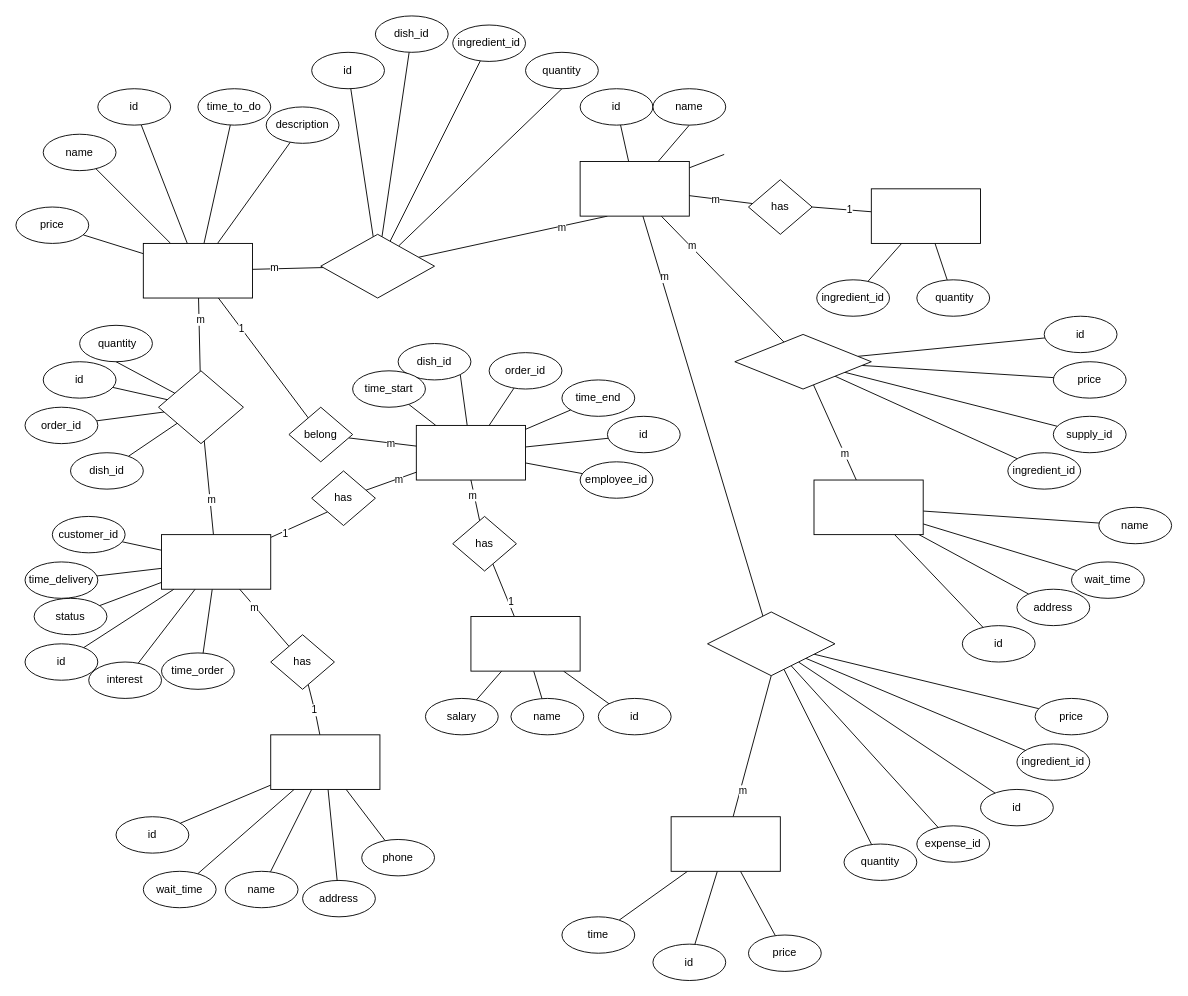
The diagram is 1188 pixels wide and 996 high, and some of its shapes have lost their labels. Here are the shapes that lost their labels. From the top down, the box of each, then its label:
(579, 161, 689, 216): Ingredient
(870, 188, 981, 243): Inventory
(142, 243, 253, 298): Dish
(320, 233, 435, 298): Dish_Ingredient
(734, 334, 871, 389): supply_ingredient
(158, 370, 243, 444): Order_dish
(415, 425, 526, 480): Work
(813, 479, 923, 535): Supply
(161, 534, 271, 589): Order
(470, 616, 580, 671): Employee
(707, 611, 835, 676): expense_list
(270, 734, 380, 789): Customer
(670, 816, 780, 871): Expense
